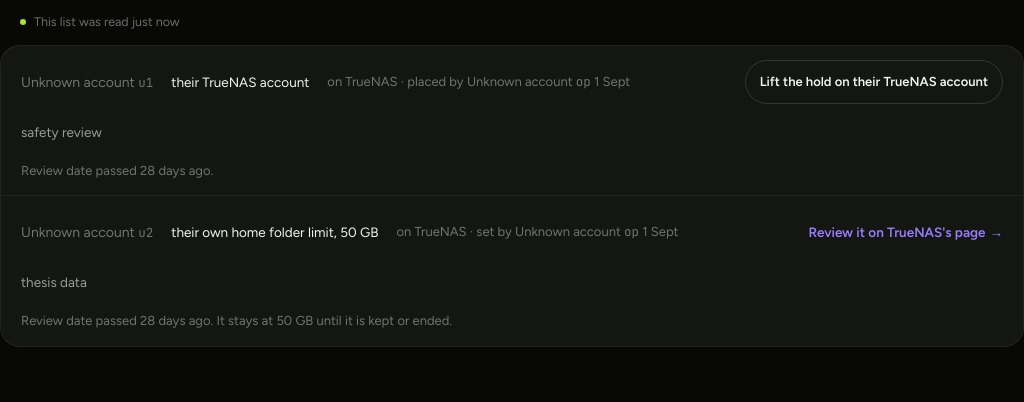
Test: a hold's row states › Lifted takes the seat the button held, and says when the access returns
Click the button "Lift the hold on their TrueNAS account": x=874, y=82 left=745, top=60, right=1003, bottom=104
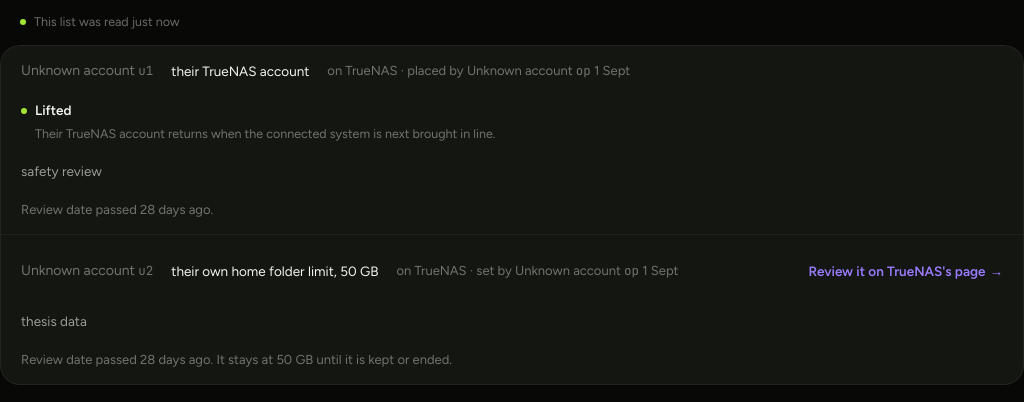
Now the message shows "Lifted", box left=35, top=102, right=71, bottom=118
Now the message shows "returns when the connected system is next brought in line", box left=35, top=126, right=495, bottom=141
Now the button "Lift the hold" is gone
